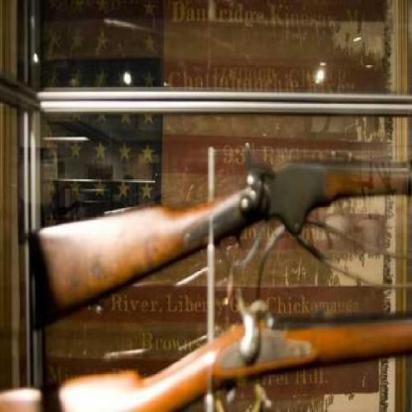Gun: (17, 134, 409, 335)
